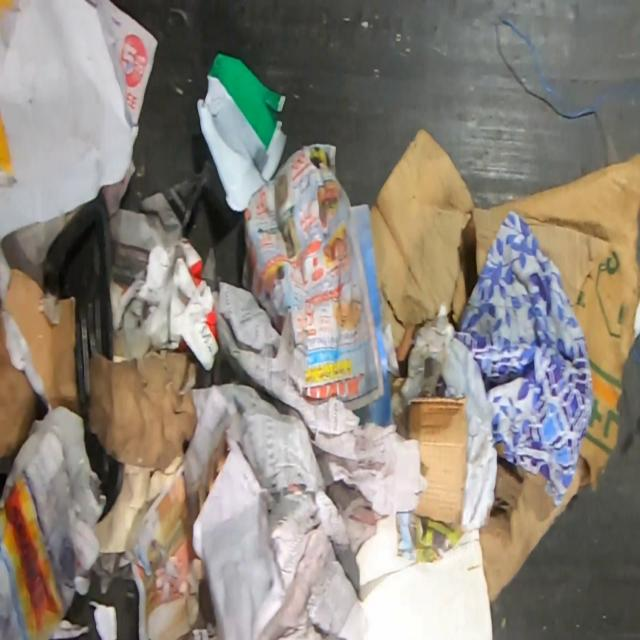cardboard: (368, 121, 640, 608), (85, 342, 200, 476), (0, 264, 75, 460), (392, 392, 470, 531)
rigid_plastic: (42, 196, 116, 523), (193, 49, 288, 215)
